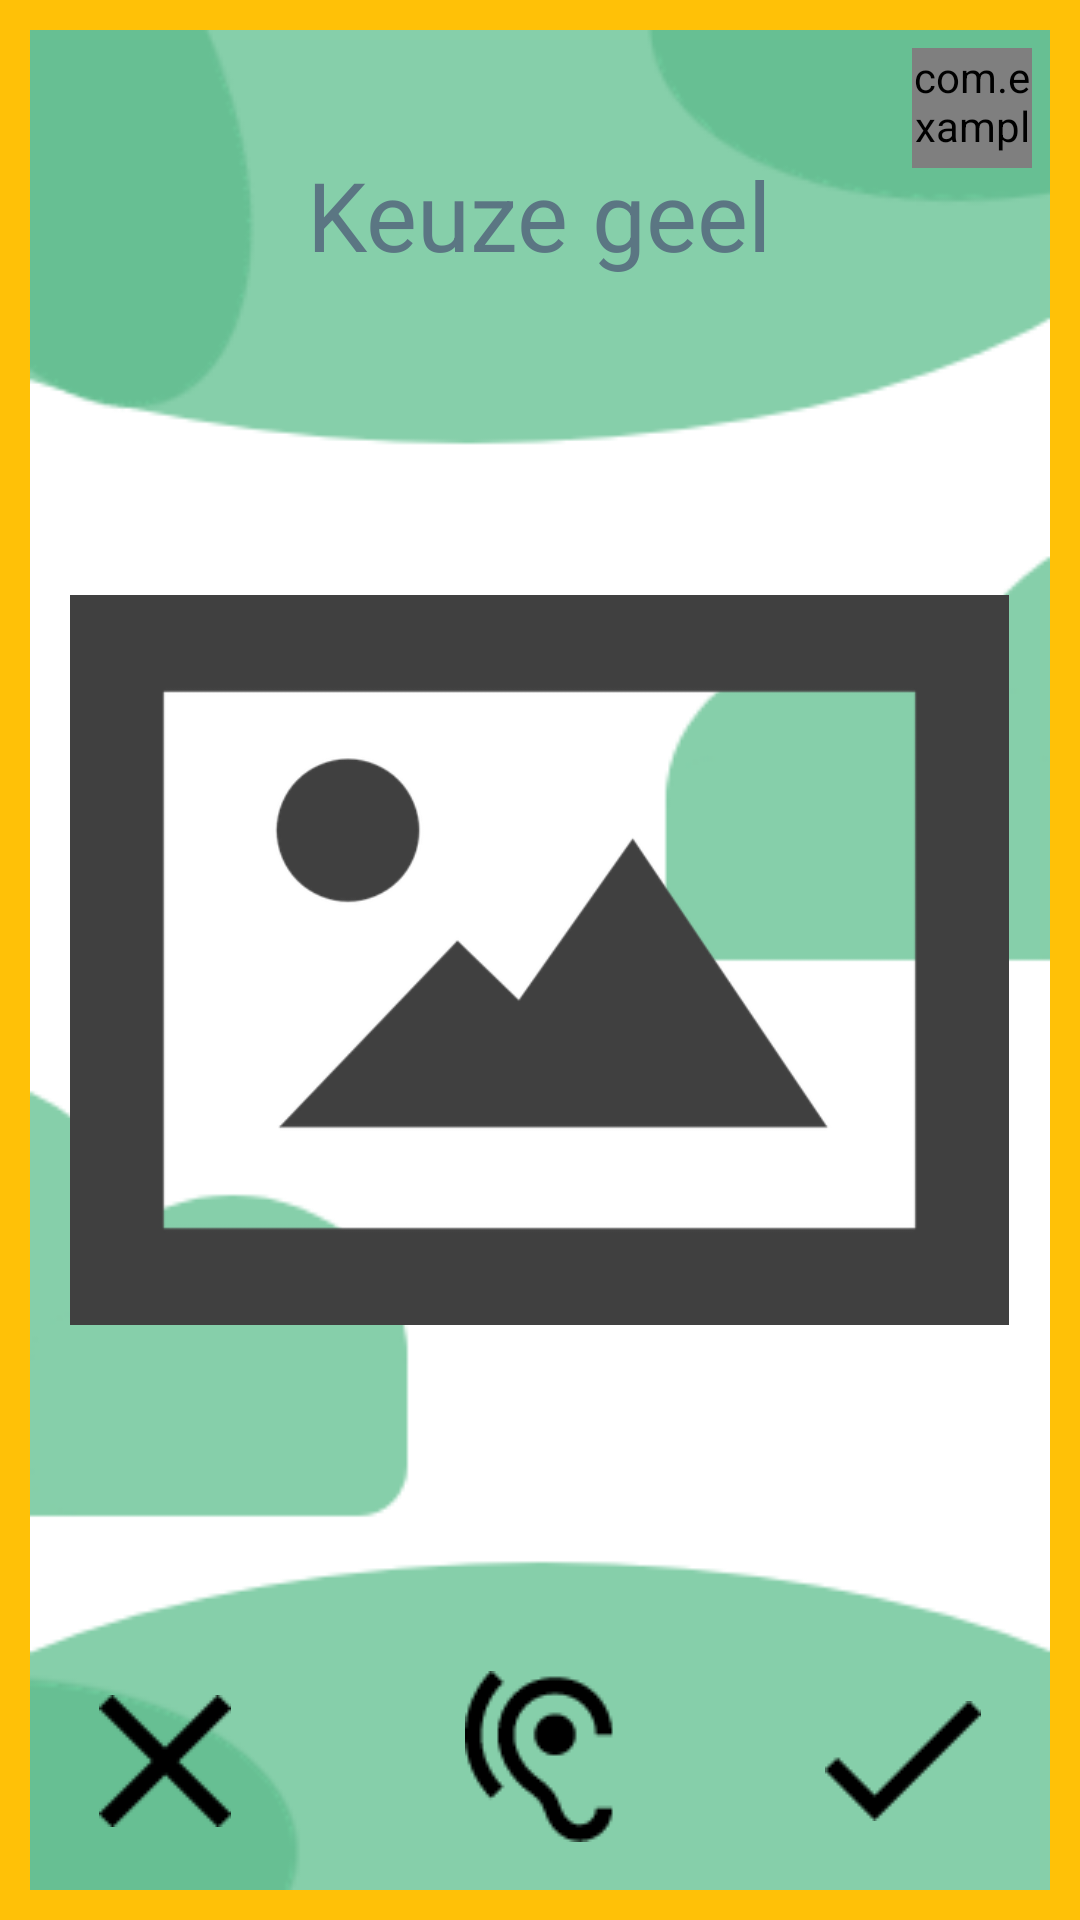

Icons on this 1080×1920 Android screen, each with its box as (left=x1, top=y1, right=x2, bottom=y2):
checkmark: (left=825, top=1701, right=981, bottom=1821)
cross: (left=99, top=1695, right=231, bottom=1827)
pictogram oortje: (left=465, top=1671, right=613, bottom=1842)
